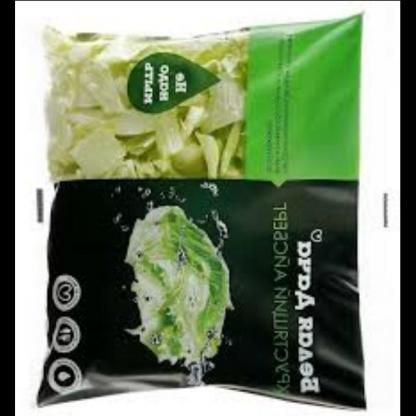salad: (43, 36, 254, 161), (113, 205, 226, 352)
